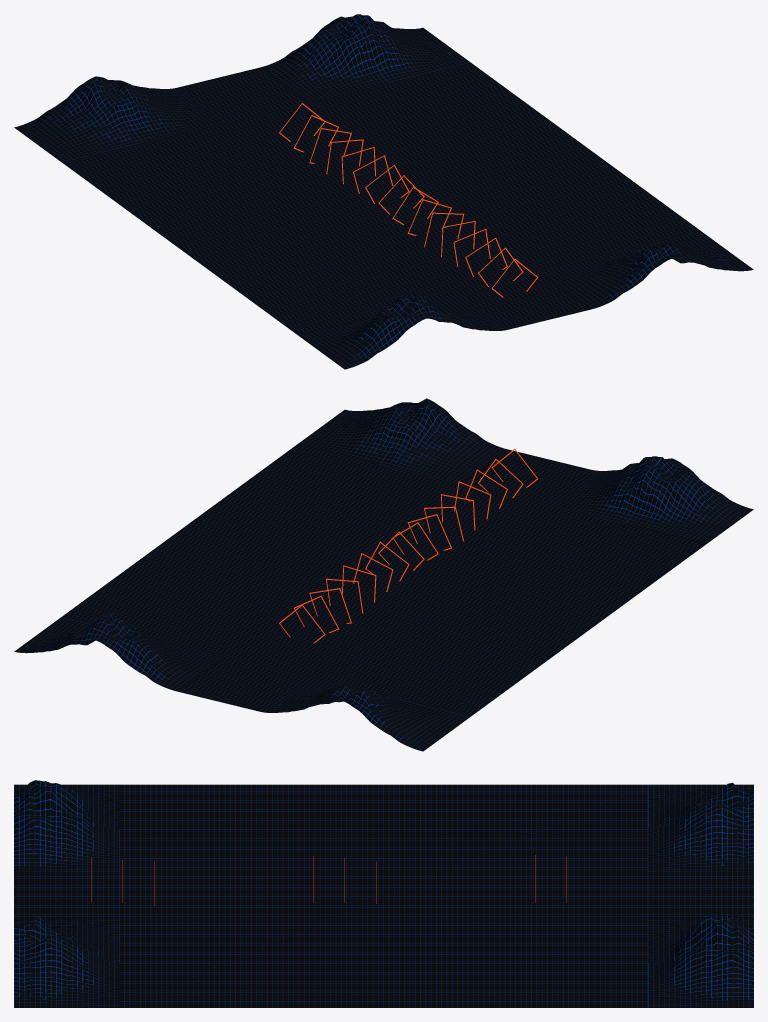
File: bgspiral2.dae
The picture shows the model from 3 angles, top to bottom: view 1: azimuth 30°, elevation 25°; view 2: azimuth 150°, elevation 25°; view 3: azimuth 270°, elevation 25°; orthographic projection. The views are drawn at different scales.
Visible parts, largest first — view 1: Plane, Landscape_1, Landscape_2, spiral; view 2: Plane, Landscape_2, Landscape_1, spiral; view 3: Plane, Landscape_2, Landscape_1.
Boxes of the visible parts, x1=… form: Plane: x1=61, y1=62, x2=706, y2=334; Landscape_1: x1=14, y1=14, x2=469, y2=161; Landscape_2: x1=298, y1=235, x2=753, y2=369; spiral: x1=279, y1=103, x2=538, y2=297; Plane: x1=61, y1=444, x2=706, y2=716; Landscape_2: x1=298, y1=398, x2=753, y2=543; Landscape_1: x1=14, y1=614, x2=469, y2=751; spiral: x1=279, y1=449, x2=537, y2=643; Plane: x1=119, y1=784, x2=648, y2=1007; Landscape_2: x1=14, y1=780, x2=119, y2=1007; Landscape_1: x1=648, y1=782, x2=753, y2=1007.
Bounding box in the file's own units: 100 × 140 × 12.93.
